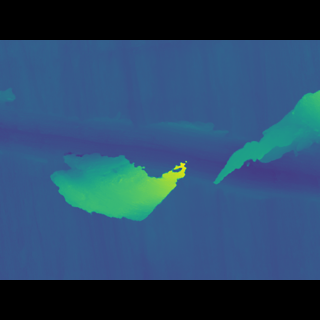Loch: (0, 106, 320, 210), (205, 107, 319, 185), (43, 151, 185, 211)
